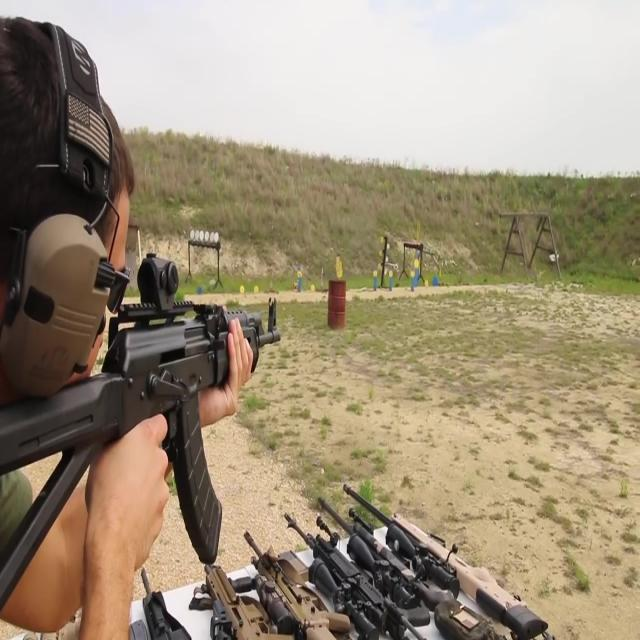Weapon: (1, 230, 282, 591), (81, 471, 640, 639)
